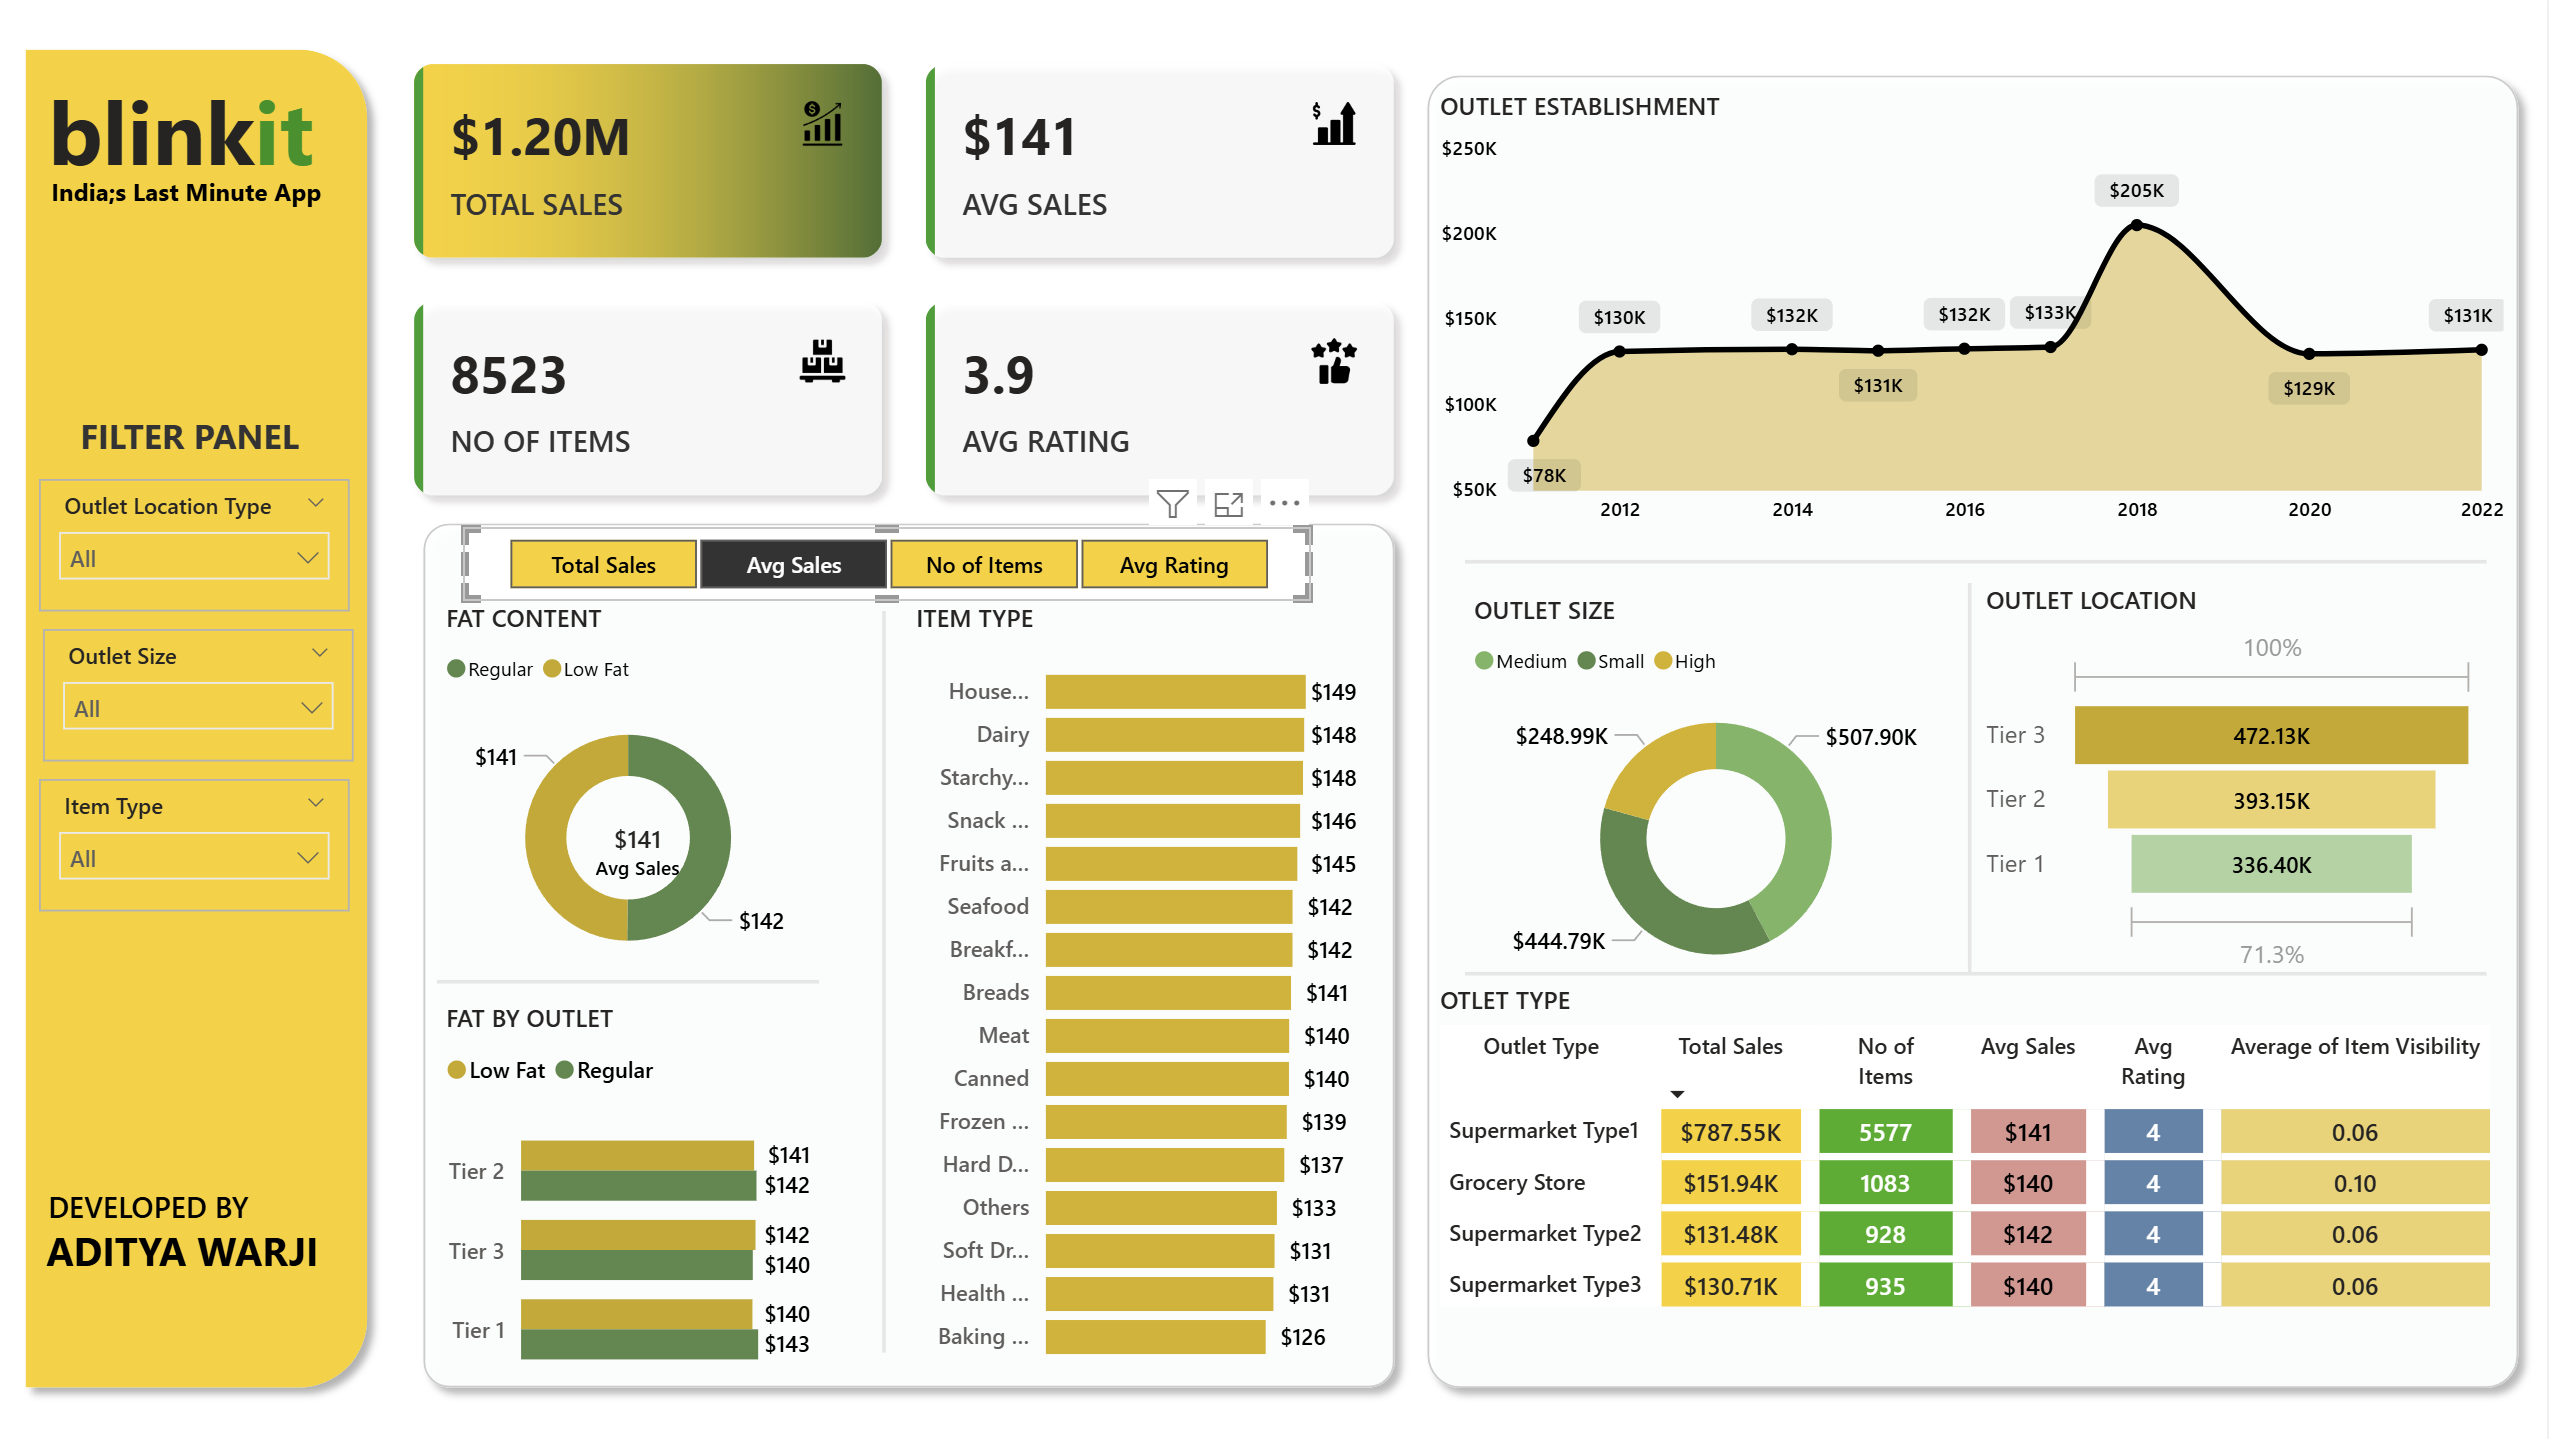

What the dashboard file says about the page in this screenshot:
{"tool":"powerbi","page":{"name":"Page 1","canvas":[1400,800],"ordinal":0},"visuals":[{"type":"shape","box":[11.2,25.1,205,750.2],"z":0},{"type":"textbox","box":[27.9,40.4,172.9,87.8],"z":1000},{"type":"textbox","box":[0,97.6,216.1,87.8],"z":2000},{"type":"cardVisual","fields":{"Data":["BlinkIT Grocery Data - BlinkIT Grocery Data.Total Sales","BlinkIT Grocery Data - BlinkIT Grocery Data.Avg Sales","BlinkIT Grocery Data - BlinkIT Grocery Data.No of Items","BlinkIT Grocery Data - BlinkIT Grocery Data.Avg Rating"]},"box":[216.1,25.1,570.3,270.5],"z":3000},{"type":"shape","box":[228.7,284.5,549.4,490.8],"z":4000},{"type":"donutChart","title":"FAT CONTENT","fields":{"Y":["BlinkIT Grocery Data - BlinkIT Grocery Data.Avg Rating"],"Category":["BlinkIT Grocery Data - BlinkIT Grocery Data.Item Fat Content"]},"box":[245.4,336.1,209.2,214.7],"z":5000},{"type":"slicer","fields":{"Values":["Metrics.Metrics"]},"box":[259.4,295.6,464.3,40.4],"z":6000},{"type":"cardVisual","fields":{"Data":["BlinkIT Grocery Data - BlinkIT Grocery Data.Avg Rating"]},"box":[306.8,436.5,97.6,72.5],"z":7000},{"type":"clusteredBarChart","title":"FAT BY OUTLET","fields":{"Y":["BlinkIT Grocery Data - BlinkIT Grocery Data.Avg Rating"],"Category":["BlinkIT Grocery Data - BlinkIT Grocery Data.Outlet Location Type"],"Series":["BlinkIT Grocery Data - BlinkIT Grocery Data.Item Fat Content"]},"box":[245.4,555,209.2,220.3],"z":8000},{"type":"shape","box":[245.4,529.9,209.2,29.3],"z":9000},{"type":"shape","box":[476.9,341.6,25.1,405.8],"z":10000},{"type":"barChart","title":"ITEM TYPE","fields":{"Y":["BlinkIT Grocery Data - BlinkIT Grocery Data.Avg Rating"],"Category":["BlinkIT Grocery Data - BlinkIT Grocery Data.Item Type"]},"box":[502,336.1,251,426.7],"z":11000},{"type":"shape","box":[778.1,39,614.9,736.3],"z":12000},{"type":"lineChart","title":"OUTLET ESTABLISHMENT","fields":{"Y":["BlinkIT Grocery Data - BlinkIT Grocery Data.Total Sales"],"Category":["BlinkIT Grocery Data - BlinkIT Grocery Data.Outlet Establishment Year"]},"box":[789.2,55.8,591.9,246.8],"z":13000},{"type":"donutChart","title":"OUTLET SIZE","fields":{"Y":["BlinkIT Grocery Data - BlinkIT Grocery Data.Total Sales"],"Category":["BlinkIT Grocery Data - BlinkIT Grocery Data.Outlet Size"]},"box":[807.4,331.9,274.7,224.5],"z":14000},{"type":"shape","box":[807.4,299.8,559.2,29.3],"z":15000},{"type":"shape","box":[1069.5,326.3,29.3,214.7],"z":16000},{"type":"funnel","title":"OUTLET LOCATION","fields":{"Y":["Sum(BlinkIT Grocery Data - BlinkIT Grocery Data.Sales)"],"Category":["BlinkIT Grocery Data - BlinkIT Grocery Data.Outlet Location Type"]},"box":[1087.6,326.3,278.9,218.9],"z":17000},{"type":"shape","box":[807.4,525.7,559.2,29.3],"z":18000},{"type":"pivotTable","title":"OTLET TYPE","fields":{"Rows":["BlinkIT Grocery Data - BlinkIT Grocery Data.Outlet Type"],"Values":["BlinkIT Grocery Data - BlinkIT Grocery Data.Total Sales","BlinkIT Grocery Data - BlinkIT Grocery Data.No of Items","BlinkIT Grocery Data - BlinkIT Grocery Data.Avg Sales","BlinkIT Grocery Data - BlinkIT Grocery Data.Avg Rating","Avg(BlinkIT Grocery Data - BlinkIT Grocery Data.Item Visibility)"]},"box":[789.2,545.2,591.2,217.5],"z":19000},{"type":"slicer","fields":{"Values":["BlinkIT Grocery Data - BlinkIT Grocery Data.Outlet Location Type"]},"box":[27.9,269.1,170.1,72.5],"z":20000},{"type":"slicer","fields":{"Values":["BlinkIT Grocery Data - BlinkIT Grocery Data.Outlet Size"]},"box":[29.3,351.4,170.1,72.5],"z":21000},{"type":"slicer","fields":{"Values":["BlinkIT Grocery Data - BlinkIT Grocery Data.Item Type"]},"box":[27.9,433.7,170.1,72.5],"z":22000},{"type":"textbox","box":[44.6,227.3,159,41.8],"z":23000},{"type":"textbox","box":[27.9,651.2,159,41.8],"z":24000},{"type":"textbox","box":[26.5,672.1,168.7,41.8],"z":25000}]}

Visuals, with their boxes in screenshot pixels (x1, y1, x2, y2), scaled from the page's 1400x800 canvas onto the 2549x1439 screenshot:
shape: bbox=(20, 45, 394, 1395)
textbox: bbox=(51, 73, 366, 231)
textbox: bbox=(0, 176, 393, 333)
cardVisual - BlinkIT Grocery Data - BlinkIT Grocery Data.Total Sales x BlinkIT Grocery Data - BlinkIT Grocery Data.Avg Sales: bbox=(393, 45, 1432, 532)
shape: bbox=(416, 512, 1417, 1395)
"FAT CONTENT" donutChart: bbox=(447, 605, 828, 991)
slicer - Metrics.Metrics: bbox=(472, 532, 1318, 604)
cardVisual - BlinkIT Grocery Data - BlinkIT Grocery Data.Avg Rating: bbox=(559, 785, 736, 916)
"FAT BY OUTLET" clusteredBarChart: bbox=(447, 998, 828, 1395)
shape: bbox=(447, 953, 828, 1006)
shape: bbox=(868, 614, 914, 1344)
"ITEM TYPE" barChart: bbox=(914, 605, 1371, 1372)
shape: bbox=(1417, 70, 2536, 1395)
"OUTLET ESTABLISHMENT" lineChart: bbox=(1437, 100, 2515, 544)
"OUTLET SIZE" donutChart: bbox=(1470, 597, 1970, 1001)
shape: bbox=(1470, 539, 2488, 592)
shape: bbox=(1947, 587, 2001, 973)
"OUTLET LOCATION" funnel: bbox=(1980, 587, 2488, 981)
shape: bbox=(1470, 946, 2488, 998)
"OTLET TYPE" pivotTable: bbox=(1437, 981, 2513, 1372)
slicer - BlinkIT Grocery Data - BlinkIT Grocery Data.Outlet Location Type: bbox=(51, 484, 361, 614)
slicer - BlinkIT Grocery Data - BlinkIT Grocery Data.Outlet Size: bbox=(53, 632, 363, 762)
slicer - BlinkIT Grocery Data - BlinkIT Grocery Data.Item Type: bbox=(51, 780, 361, 911)
textbox: bbox=(81, 409, 371, 484)
textbox: bbox=(51, 1171, 340, 1247)
textbox: bbox=(48, 1209, 355, 1284)
